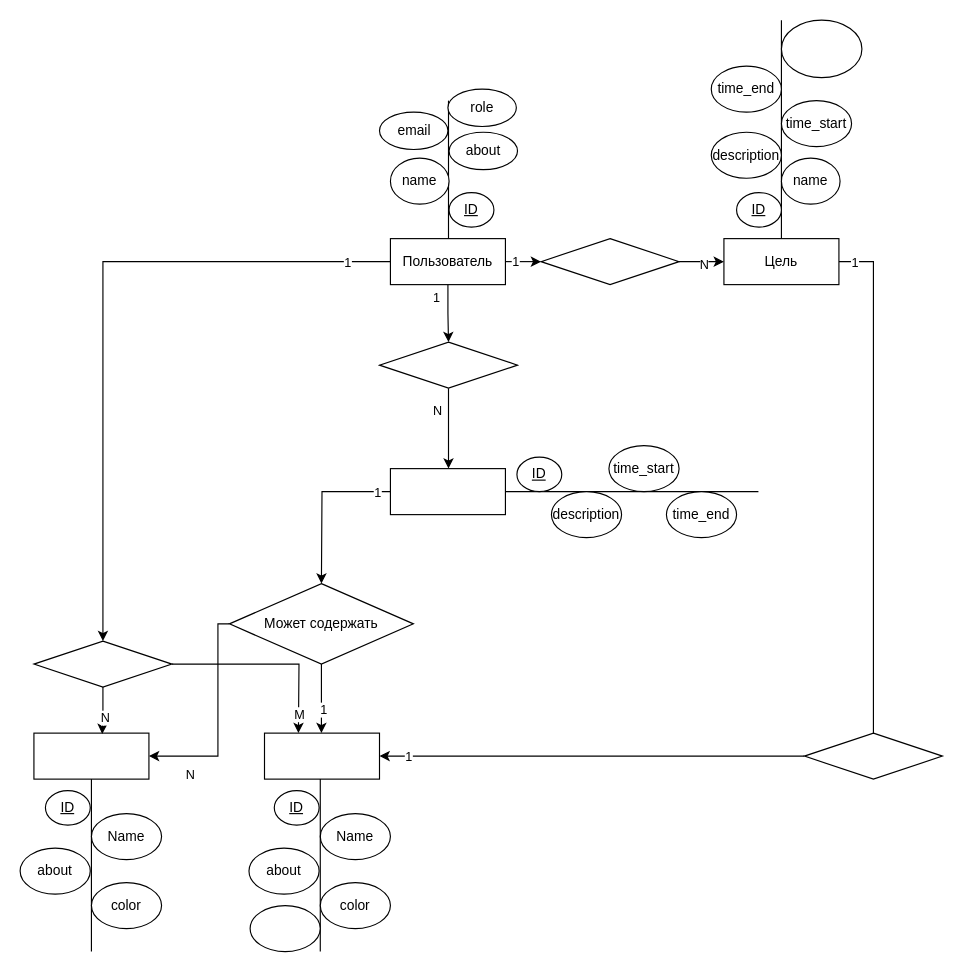
Image size: 963x973. Some labels were removed from this diagram. The shapes that lost their labels are listed below. From the top down, each one's box as (x1, y1, x2, y2) in pixels, then its label:
(780, 19, 862, 78): hours_count
(540, 237, 679, 285): Ставит
(378, 341, 518, 388): Сохраняет
(389, 467, 505, 515): Запись
(33, 640, 172, 687): Создает
(33, 732, 149, 779): Тег
(263, 732, 379, 779): Проект
(803, 732, 942, 779): имеет
(249, 904, 320, 952): isPrivate
